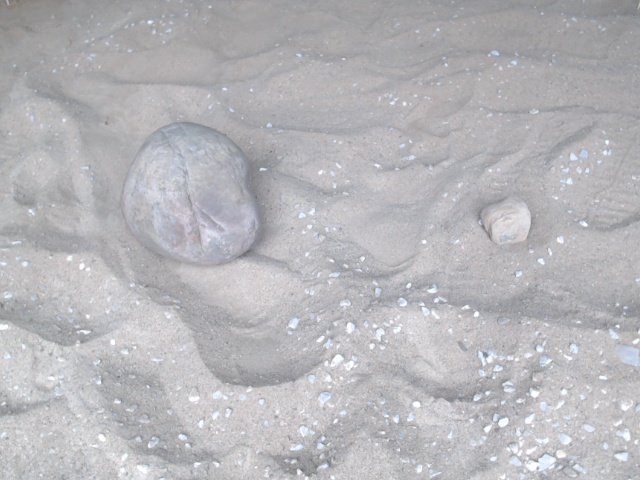rock: (113, 116, 267, 274), (474, 191, 536, 251)
